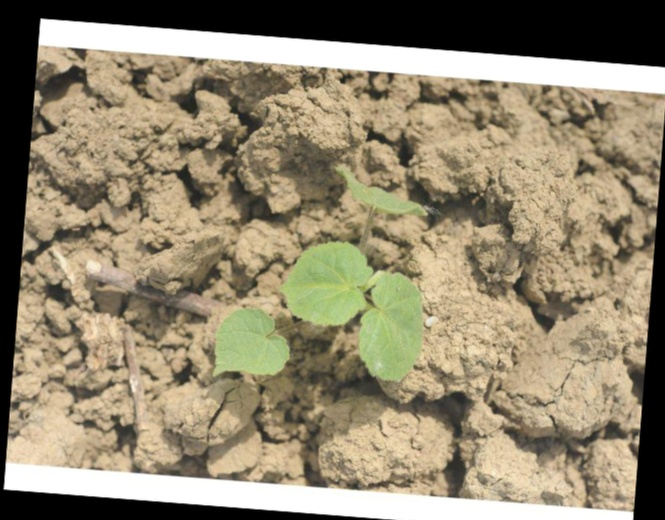velvet: (219, 164, 428, 388)
